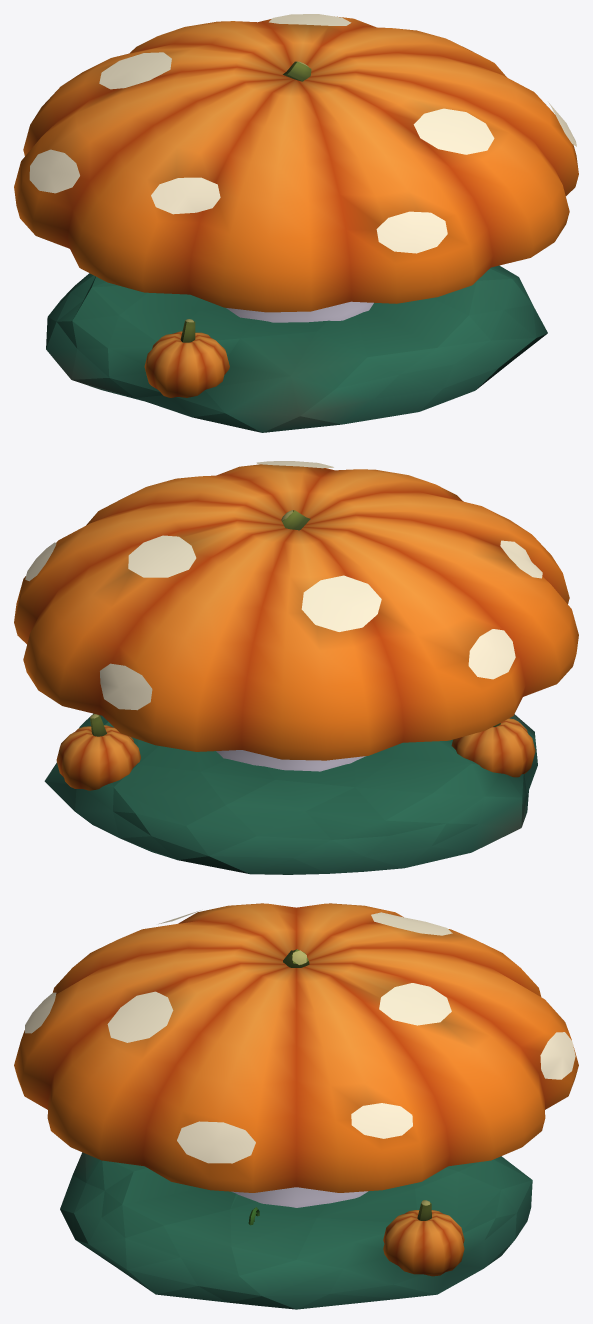
File: bounce_haunted.glb
3 views of the same model, one above another, from view 1: azimuth 30°, elevation 25°; view 2: azimuth 150°, elevation 25°; view 3: azimuth 270°, elevation 25° (orthographic).
Visible parts, largest first — view 1: top, bounce_haunted; view 2: top, bounce_haunted; view 3: top, bounce_haunted.
Part boxes in pixels (x1=…): top: x1=14, y1=14, x2=578, y2=312; bounce_haunted: x1=46, y1=265, x2=547, y2=432; top: x1=14, y1=461, x2=578, y2=760; bounce_haunted: x1=44, y1=713, x2=537, y2=874; top: x1=14, y1=903, x2=578, y2=1192; bounce_haunted: x1=60, y1=1152, x2=532, y2=1309.
Size of the model in its own units: 1.56 by 0.8103 by 1.6.
